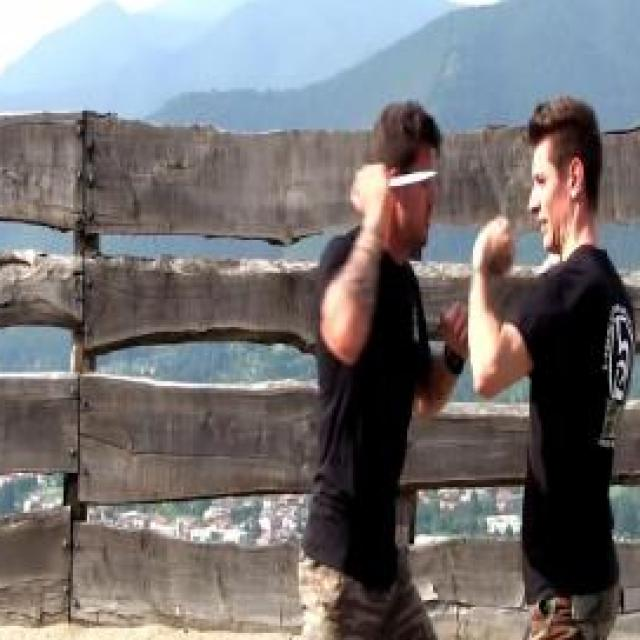knife: (348, 155, 441, 212)
